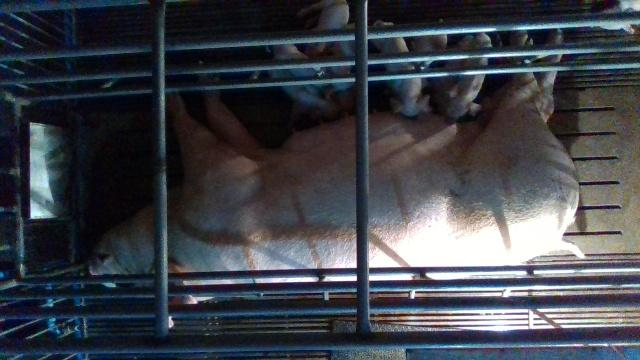piglet: (372, 22, 432, 115), (446, 32, 490, 119), (266, 42, 335, 95), (297, 0, 350, 52)
sow-sleep-lactate: (85, 29, 585, 301)
